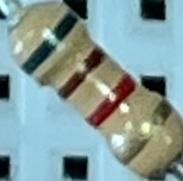Brown: (18, 7, 78, 79), (56, 43, 110, 102)
Red: (84, 71, 141, 132)
Side-Silver: (111, 95, 179, 169)
